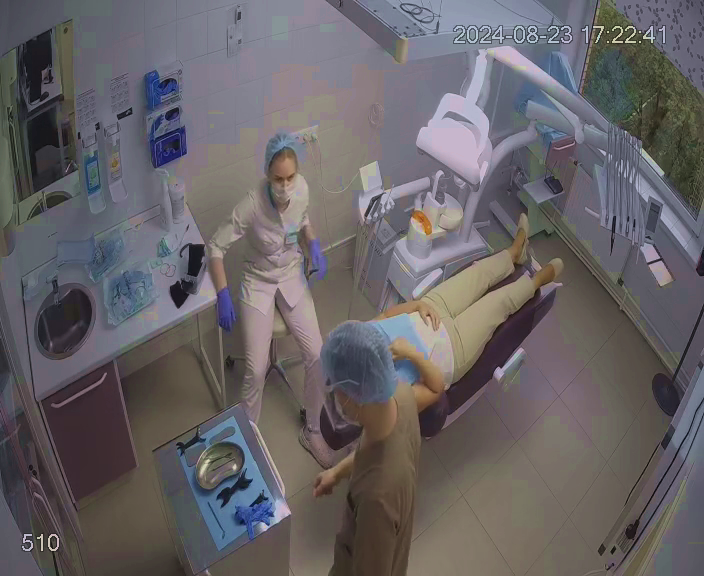Patient: (319, 213, 565, 453)
